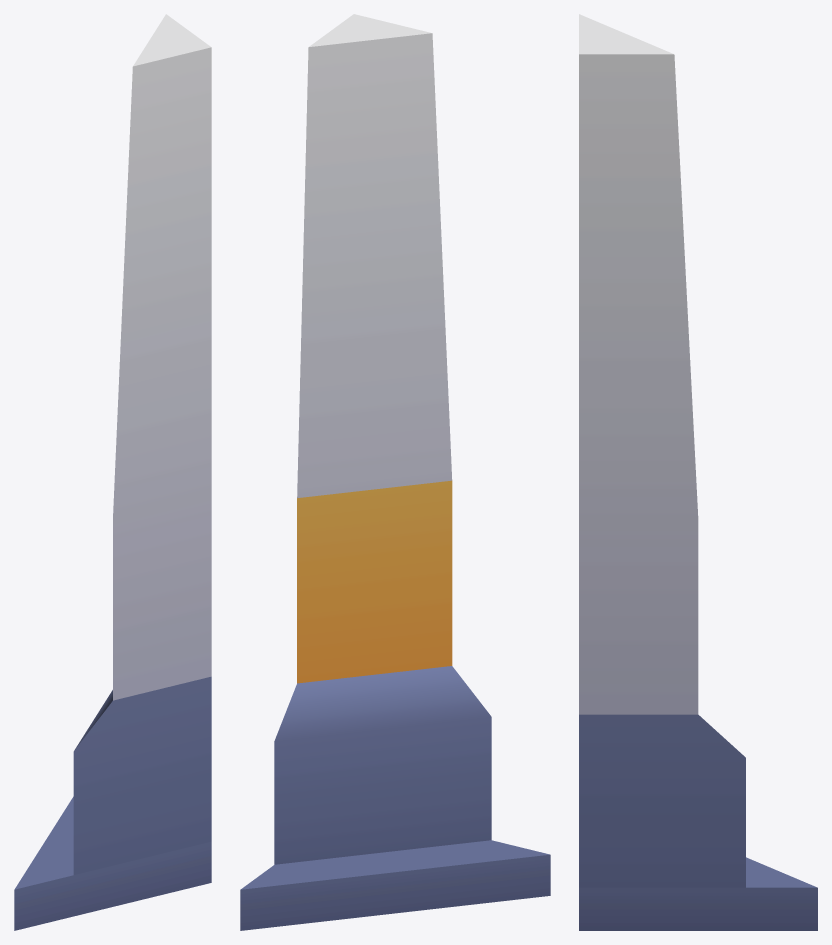
The model's file is template-wall-corner.glb.
3 renders of one model, left to right at view 1: azimuth 30°, elevation 25°; view 2: azimuth 150°, elevation 25°; view 3: azimuth 270°, elevation 25°, orthographic. The views are drawn at different scales.
Visible parts, largest first — view 1: template-wall-corner; view 2: template-wall-corner; view 3: template-wall-corner.
Part boxes in pixels (box(x1,y1,x2,y2)): template-wall-corner: box(14, 14, 211, 930); template-wall-corner: box(240, 14, 550, 930); template-wall-corner: box(579, 14, 817, 930).
Size of the model in its own units: 1 by 4.05 by 1.
1 material, 1 textured.
